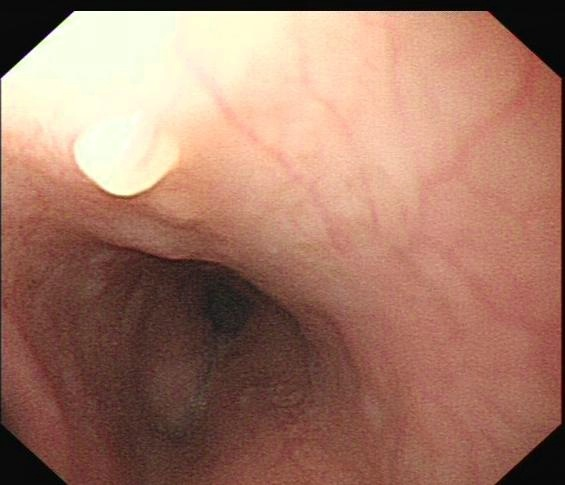Polyp: (71, 117, 197, 205)
